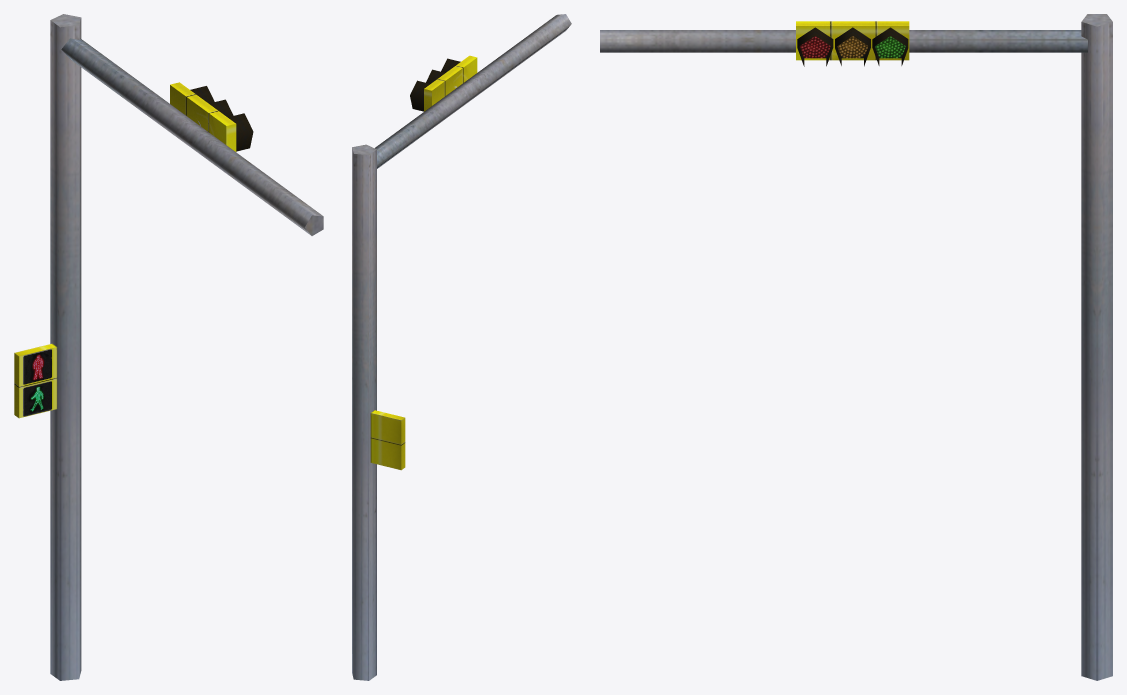
File: trafficlight_b.FBX
3 renders of one model, left to right at view 1: azimuth 30°, elevation 25°; view 2: azimuth 150°, elevation 25°; view 3: azimuth 270°, elevation 25°, orthographic. The views are drawn at different scales.
Visible parts, largest first — view 1: prop_trafficlightB_LOD0; view 2: prop_trafficlightB_LOD0; view 3: prop_trafficlightB_LOD0.
Part boxes in pixels (bbox=[...]): prop_trafficlightB_LOD0: bbox=[14, 14, 323, 680]; prop_trafficlightB_LOD0: bbox=[352, 14, 571, 680]; prop_trafficlightB_LOD0: bbox=[600, 14, 1112, 680].
Size of what is drawn, in the model's own units: 1.59 by 11.52 by 8.15.
